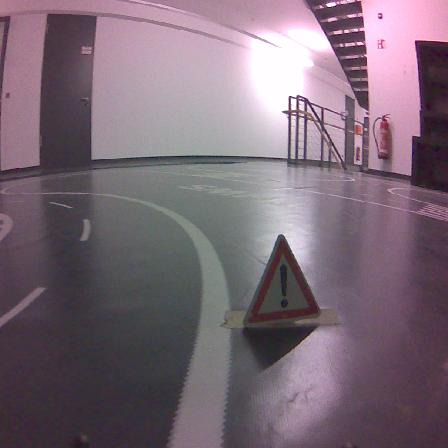ATTENTION: (244, 235, 319, 326)
